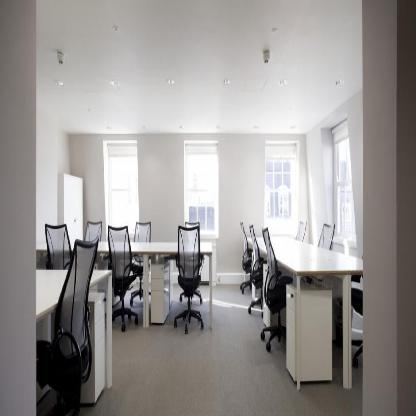other: (262, 140, 303, 237), (182, 154, 220, 241), (109, 161, 141, 233)
